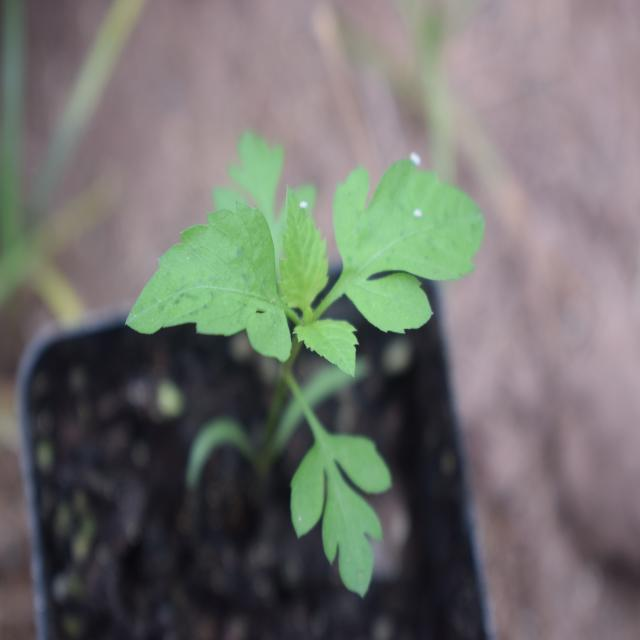Bidens pilosa: (132, 125, 506, 578)
